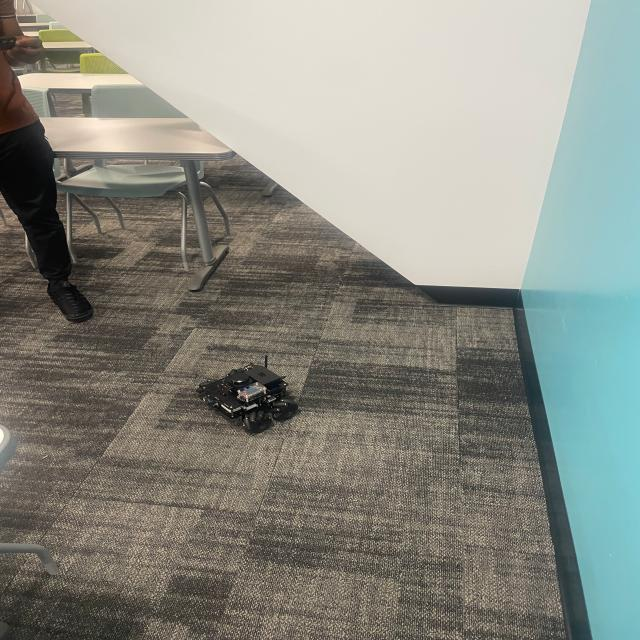ArduinoCar: (194, 354, 303, 434)
